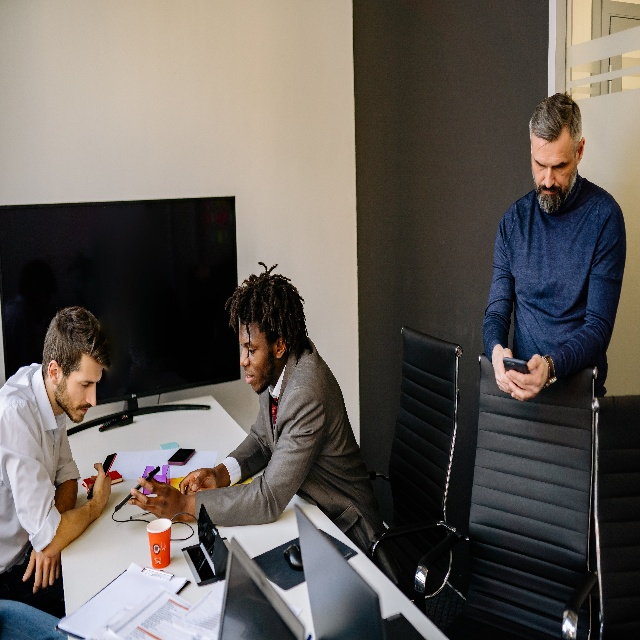Sin_guantes: (128, 476, 184, 526), (505, 353, 548, 402), (87, 461, 111, 513), (179, 465, 217, 497), (494, 346, 512, 393)
